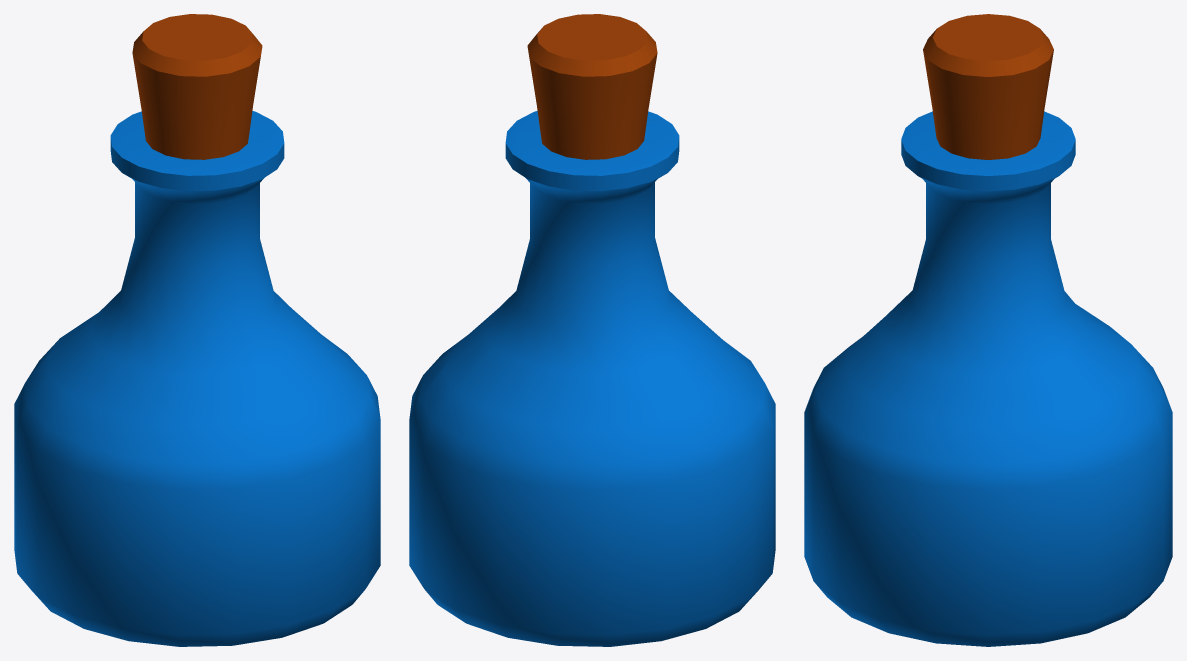
Rendered from GR_anderflesje.fbx.
3 views of the same model, side by side, from view 1: azimuth 30°, elevation 25°; view 2: azimuth 150°, elevation 25°; view 3: azimuth 270°, elevation 25° (orthographic).
Visible parts, largest first — view 1: Cylinder_1; view 2: Cylinder_1; view 3: Cylinder_1.
Part boxes in pixels (box(x1,y1,x2,y2)): Cylinder_1: box(14, 14, 380, 646); Cylinder_1: box(409, 14, 775, 646); Cylinder_1: box(804, 14, 1172, 646).
Bounding box in the file's own units: 20.45 × 32.96 × 20.45.
